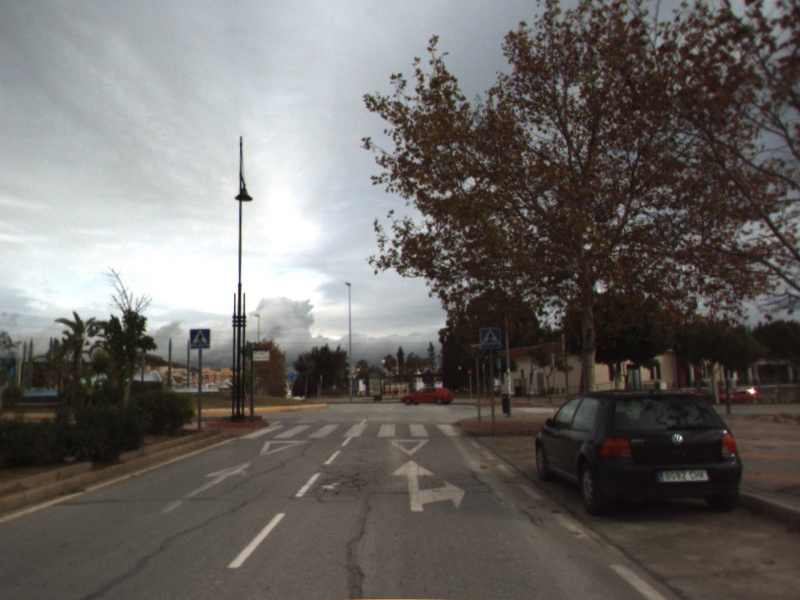STRAIGHT: (158, 459, 253, 516)
STRAIGHT_RIGHT: (387, 457, 467, 514)
